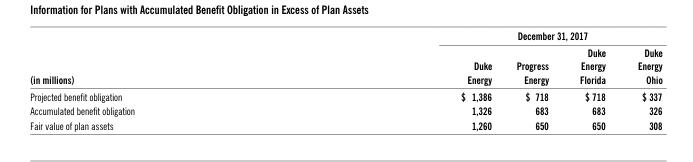table: (29, 29, 661, 131)
table column: (29, 29, 297, 131), (297, 29, 503, 131), (503, 29, 563, 131), (563, 29, 620, 131), (620, 29, 661, 131)
table column header: (29, 29, 661, 87)
table row: (29, 43, 661, 87), (29, 87, 661, 103), (29, 29, 661, 43), (29, 103, 661, 117), (29, 117, 661, 131)
table spanning cell: (29, 29, 297, 87), (297, 29, 661, 43)
